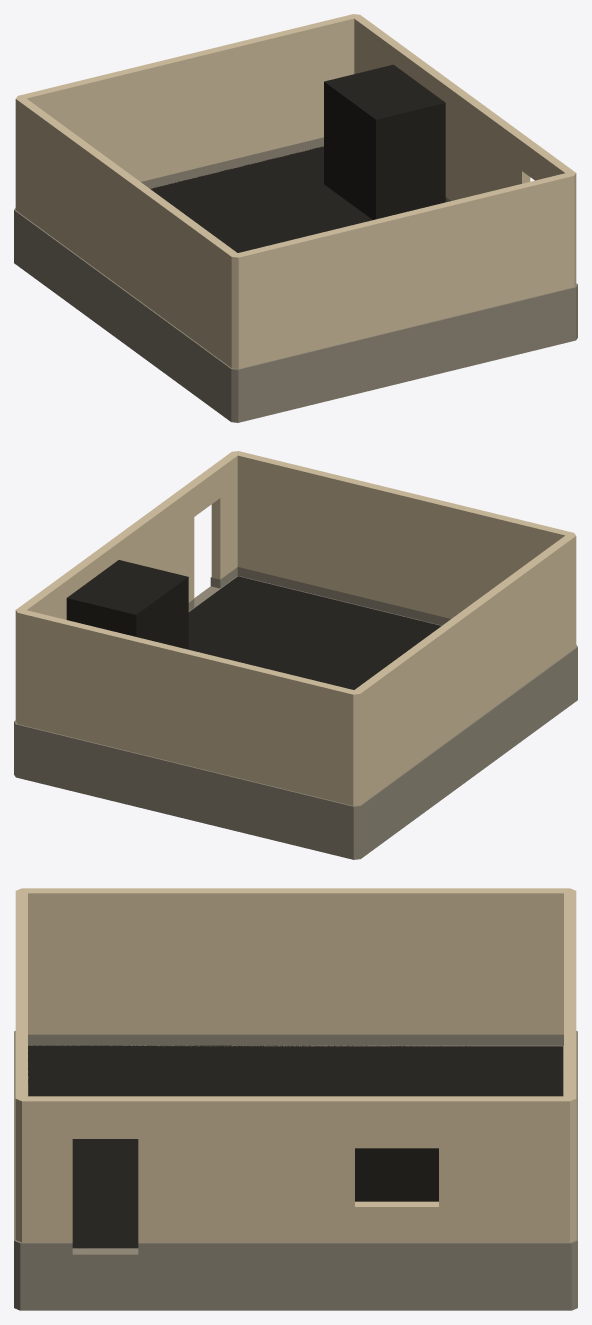
File: SM_Homes_H04_Shell_LOD2.fbx
3 views of the same model, one above another, from view 1: azimuth 30°, elevation 25°; view 2: azimuth 150°, elevation 25°; view 3: azimuth 270°, elevation 25° (orthographic). The views are drawn at different scales.
Parts seen in each view (by area): view 1: SM_Homes_H04_Shell_LOD2; view 2: SM_Homes_H04_Shell_LOD2; view 3: SM_Homes_H04_Shell_LOD2.
Boxes of the visible parts, x1,y1,x2,y2 form: SM_Homes_H04_Shell_LOD2: (14,14,577,422); SM_Homes_H04_Shell_LOD2: (14,451,577,859); SM_Homes_H04_Shell_LOD2: (14,888,577,1310).
Bounding box in the file's own units: 9.06 × 10.06 × 4.11.
